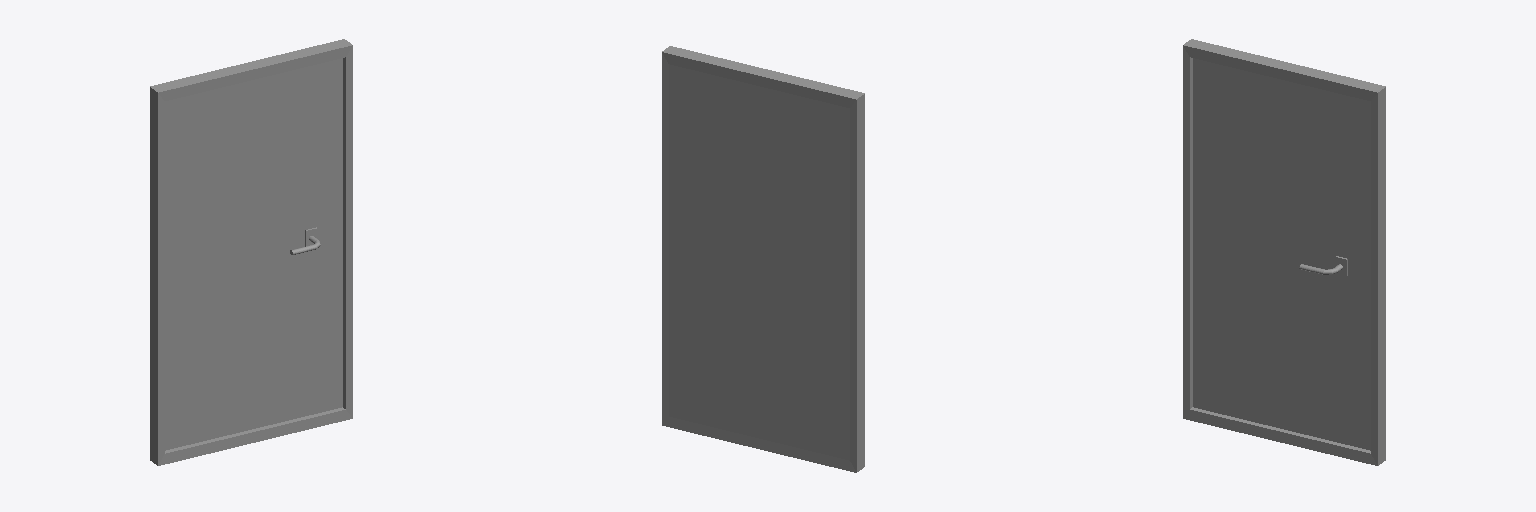
Rendered from tuere.obj.
The picture shows the model from 3 angles: view 1: azimuth 30°, elevation 25°; view 2: azimuth 150°, elevation 25°; view 3: azimuth 330°, elevation 25°; orthographic projection.
Visible parts, largest first — view 1: tueer_Cube.002; view 2: tueer_Cube.002; view 3: tueer_Cube.002.
Boxes of the visible parts, x1,y1,x2,y2 form: tueer_Cube.002: [150, 39, 352, 465]; tueer_Cube.002: [662, 46, 864, 472]; tueer_Cube.002: [1183, 39, 1385, 465].
Size of the model in its own units: 1.7 by 3.11 by 0.2704.